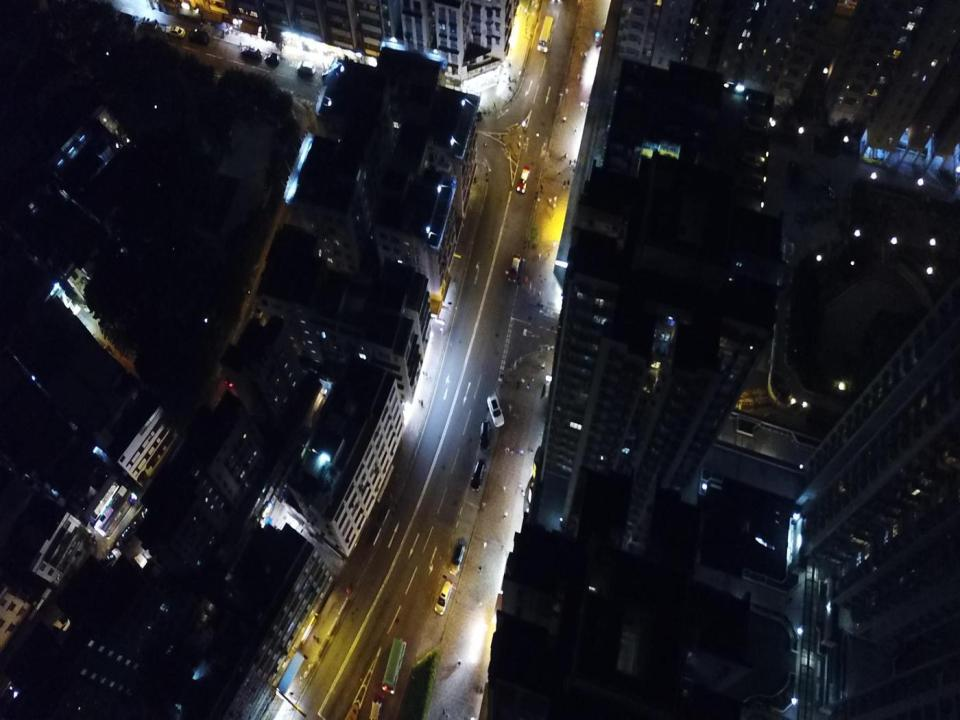bus: (381, 638, 407, 694), (537, 15, 554, 53)
car: (434, 580, 453, 616), (486, 393, 505, 428), (101, 545, 123, 574), (448, 542, 466, 576), (109, 8, 136, 30), (470, 458, 487, 492), (506, 252, 522, 284), (516, 164, 532, 194), (479, 420, 491, 452), (189, 27, 209, 46), (240, 44, 261, 62), (163, 24, 187, 39), (296, 59, 316, 75), (368, 698, 383, 719), (263, 51, 282, 65)
van: (137, 15, 160, 33)
